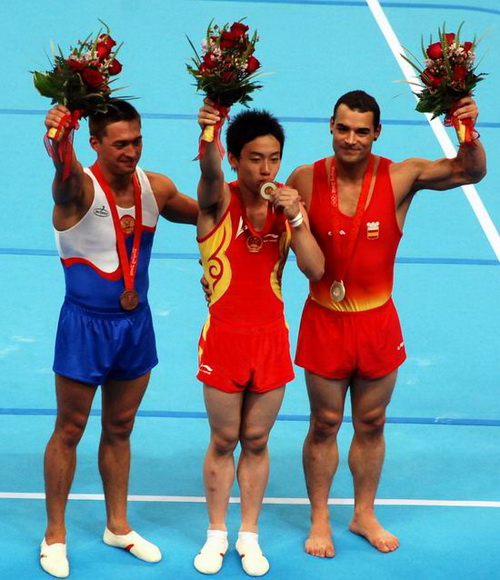face: (238, 134, 281, 187), (332, 110, 373, 162), (102, 121, 141, 173)
